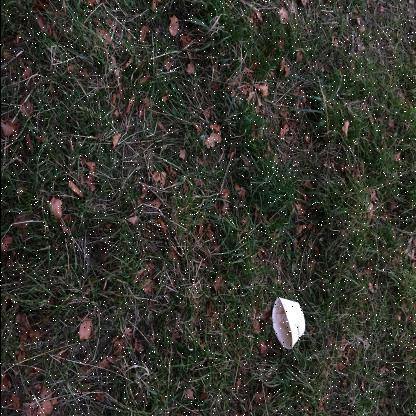cardboard: (271, 296, 304, 350)
